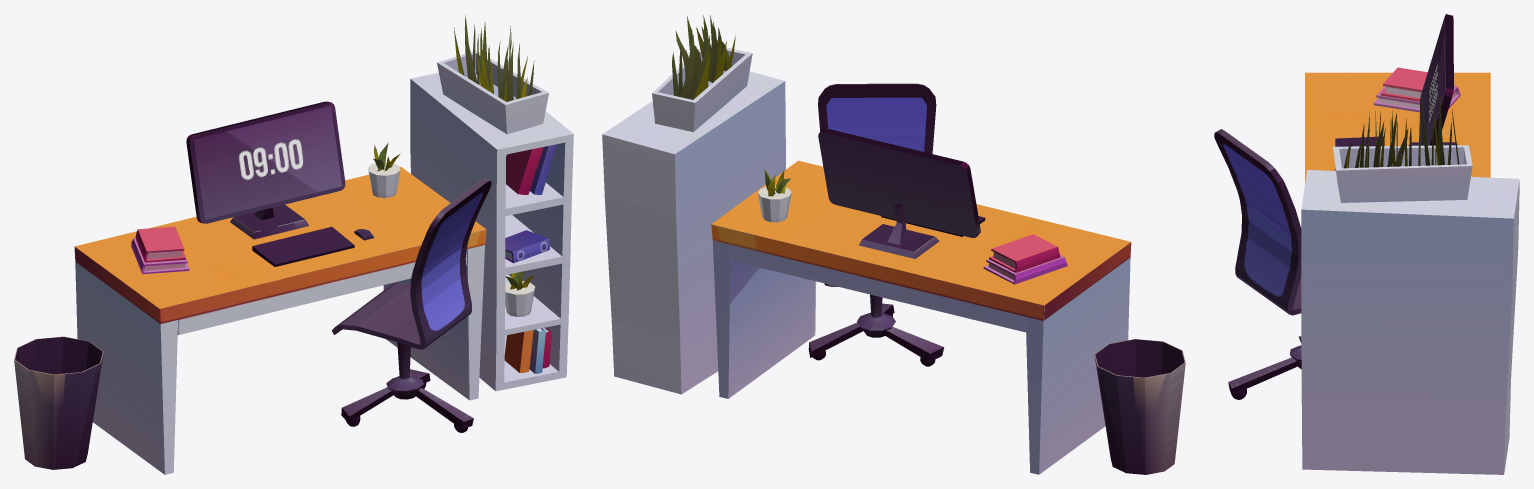
File: workspace.glb
3 renders of one model, left to right at view 1: azimuth 30°, elevation 25°; view 2: azimuth 150°, elevation 25°; view 3: azimuth 270°, elevation 25°, orthographic. The views are drawn at different scales.
Visible parts, largest first — view 1: Desk, Shelf, Monitor, Seat, Trashcan, ShelfPlant2, Keyboard, DeskBook2, ShelfBook3, DeskPlant, ShelfPlant1, Stereo (+4 smaller); view 2: Desk, Shelf, Monitor, Trashcan, Seat, ShelfPlant2, DeskBook2, DeskPlant, DeskBook1; view 3: Shelf, Desk, Seat, ShelfPlant2, Monitor, DeskBook2, DeskBook1, Keyboard.
Boxes of the visible parts, <box> form: Desk: <box>74,167,486,474</box>; Shelf: <box>410,73,573,391</box>; Monitor: <box>186,101,345,239</box>; Seat: <box>331,178,491,432</box>; Trashcan: <box>14,336,103,469</box>; ShelfPlant2: <box>437,15,548,134</box>; Keyboard: <box>252,226,354,266</box>; DeskBook2: <box>135,226,185,262</box>; ShelfBook3: <box>506,147,543,194</box>; DeskPlant: <box>368,142,400,197</box>; ShelfPlant1: <box>505,271,535,316</box>; Stereo: <box>505,230,549,263</box>; Desk: <box>711,160,1131,474</box>; Shelf: <box>602,71,785,394</box>; Monitor: <box>818,128,980,258</box>; Trashcan: <box>1094,339,1185,474</box>; Seat: <box>808,83,944,366</box>; ShelfPlant2: <box>652,15,752,132</box>; DeskBook2: <box>989,234,1060,272</box>; DeskPlant: <box>758,170,791,222</box>; DeskBook1: <box>983,255,1067,284</box>; Shelf: <box>1301,170,1519,474</box>; Desk: <box>1305,72,1490,183</box>; Seat: <box>1214,129,1301,399</box>; ShelfPlant2: <box>1333,95,1472,202</box>; Monitor: <box>1408,14,1457,145</box>; DeskBook2: <box>1380,67,1454,101</box>; DeskBook1: <box>1373,86,1460,112</box>; Keyboard: <box>1335,136,1384,170</box>.
Bounding box in the file's own units: 3.28 × 1.99 × 1.55.
1 material, 1 textured.
